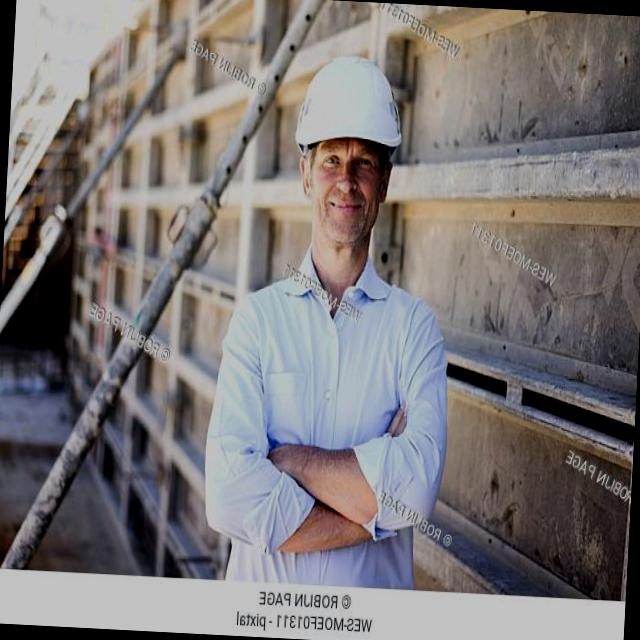helmet: (291, 43, 408, 168)
no-goggles: (309, 144, 386, 184)
no-vest: (193, 242, 458, 594)
